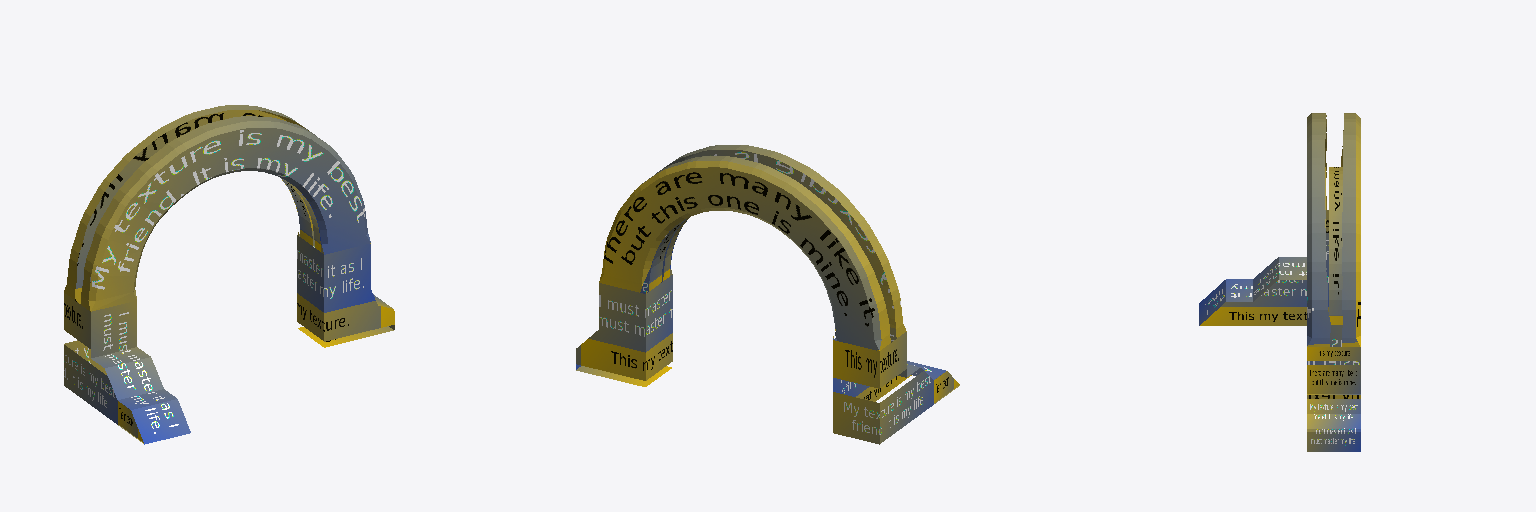
3 renders of one model, left to right at view 1: azimuth 30°, elevation 25°; view 2: azimuth 150°, elevation 25°; view 3: azimuth 270°, elevation 25°, orthographic.
Visible parts, largest first — view 1: AsymetricArc_Cube; view 2: AsymetricArc_Cube; view 3: AsymetricArc_Cube.
Boxes of the visible parts, x1,y1,x2,y2 form: AsymetricArc_Cube: [64, 105, 394, 444]; AsymetricArc_Cube: [576, 145, 959, 444]; AsymetricArc_Cube: [1199, 113, 1360, 451].
Size of the model in its own units: 13 by 9.96 by 6.01.
1 materials, 1 textured.